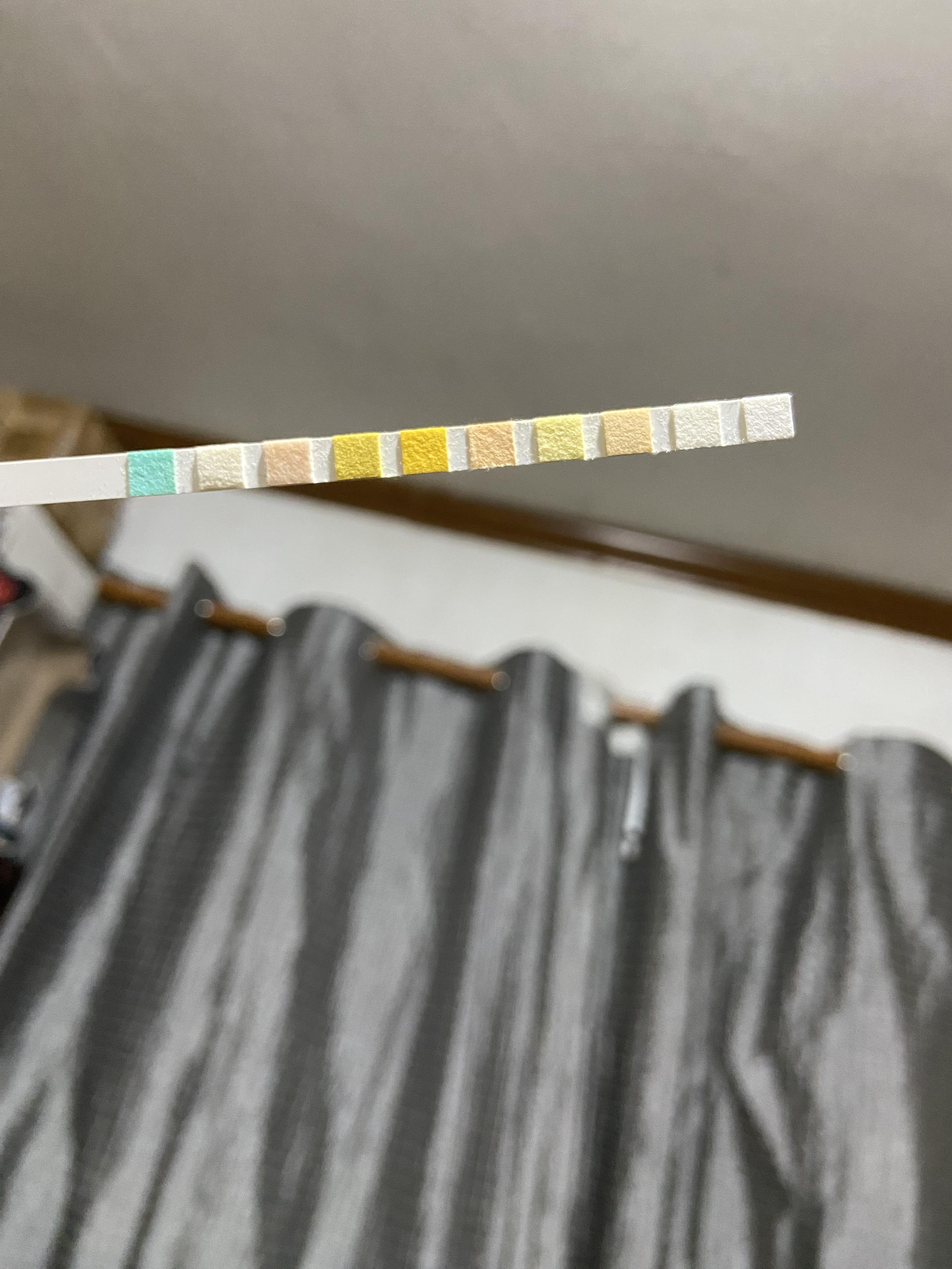Bilirubin: (198, 448, 241, 489)
Blood: (404, 432, 446, 471)
Glucose: (129, 454, 174, 494)
Ketone: (267, 443, 311, 483)
Leukocytes: (747, 398, 790, 438)
Nitrite: (676, 406, 718, 445)
Protein: (540, 418, 580, 459)
SpGravity: (337, 437, 377, 477)
Urobilinogen: (607, 412, 649, 452)
pH: (471, 426, 512, 465)
strip: (1, 394, 796, 509)
